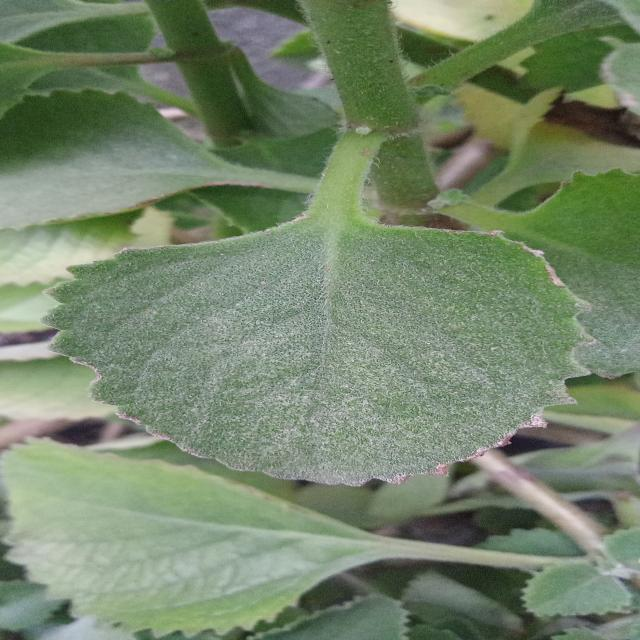Oregano: (28, 202, 630, 508)
